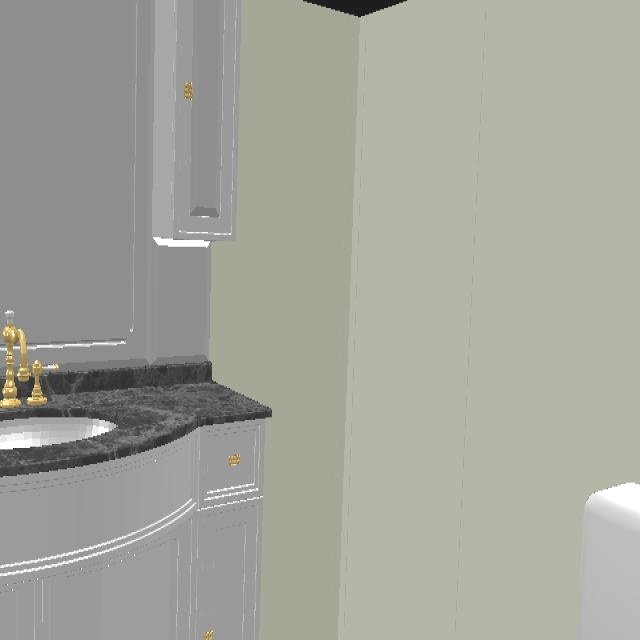cabinet: (0, 1, 240, 361), (0, 420, 264, 638)
countertop: (0, 382, 271, 476)
washbasin: (0, 323, 29, 408), (26, 360, 46, 404)
